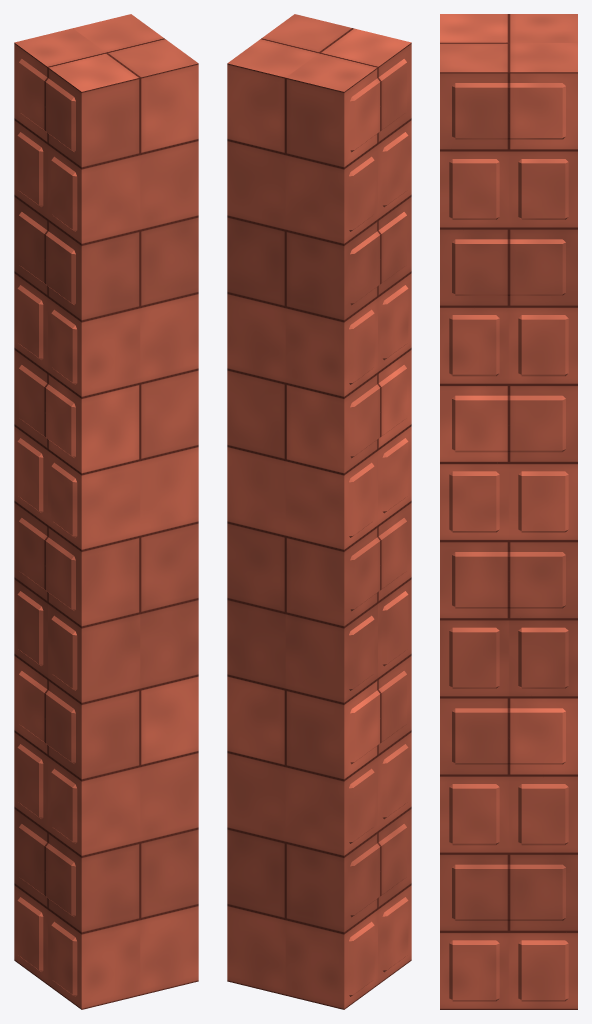
The model's file is Kit_Brick_Joint.fbx.
3 views of the same model, side by side, from view 1: azimuth 30°, elevation 25°; view 2: azimuth 150°, elevation 25°; view 3: azimuth 270°, elevation 25° (orthographic). The views are drawn at different scales.
Visible parts, largest first — view 1: Kit_Brick_Joint_LOD0; view 2: Kit_Brick_Joint_LOD0; view 3: Kit_Brick_Joint_LOD0.
Part boxes in pixels (box(x1,y1,x2,y2)): Kit_Brick_Joint_LOD0: box(14, 14, 198, 1009); Kit_Brick_Joint_LOD0: box(227, 14, 411, 1009); Kit_Brick_Joint_LOD0: box(440, 14, 577, 1009).
Size of what is drawn, in the model's own units: 0.42 by 3 by 0.4.
